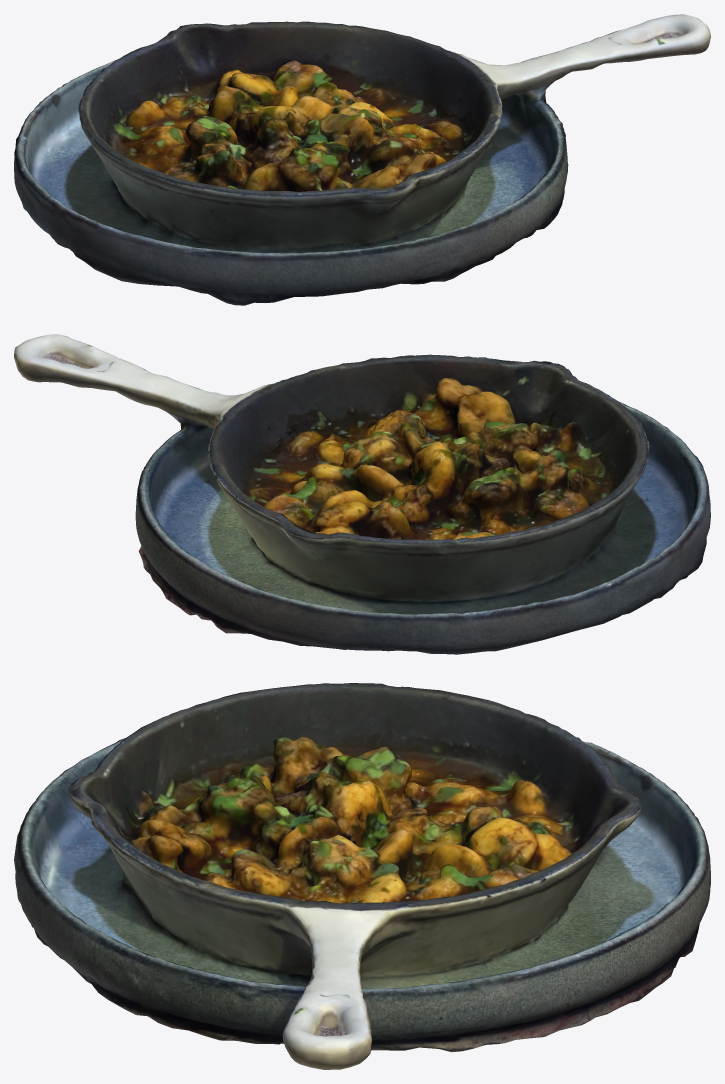
Rendered from crevettes-sautees-a-l-ail.glb.
The picture shows the model from 3 angles, top to bottom: view 1: azimuth 30°, elevation 25°; view 2: azimuth 150°, elevation 25°; view 3: azimuth 270°, elevation 25°; orthographic projection. The views are drawn at different scales.
Parts seen in each view (by area): view 1: /ObjectCapture/Geometry/Mesh; view 2: /ObjectCapture/Geometry/Mesh; view 3: /ObjectCapture/Geometry/Mesh.
Boxes of the visible parts, box(x1,y1,x2,y2) form: /ObjectCapture/Geometry/Mesh: box(14, 14, 710, 305); /ObjectCapture/Geometry/Mesh: box(14, 334, 710, 654); /ObjectCapture/Geometry/Mesh: box(14, 683, 710, 1069).
Bounding box in the file's own units: 0.278 × 0.0413 × 0.2079.
1 material, 1 textured.
